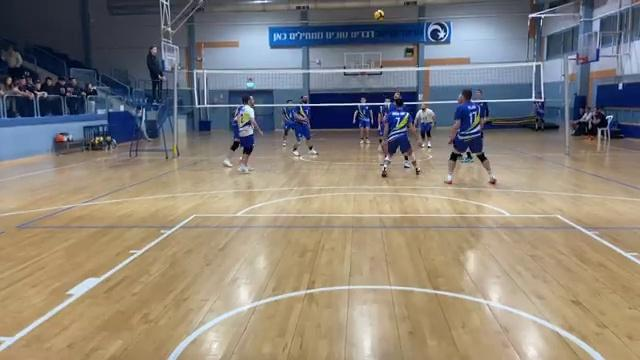ball: (369, 7, 387, 24)
